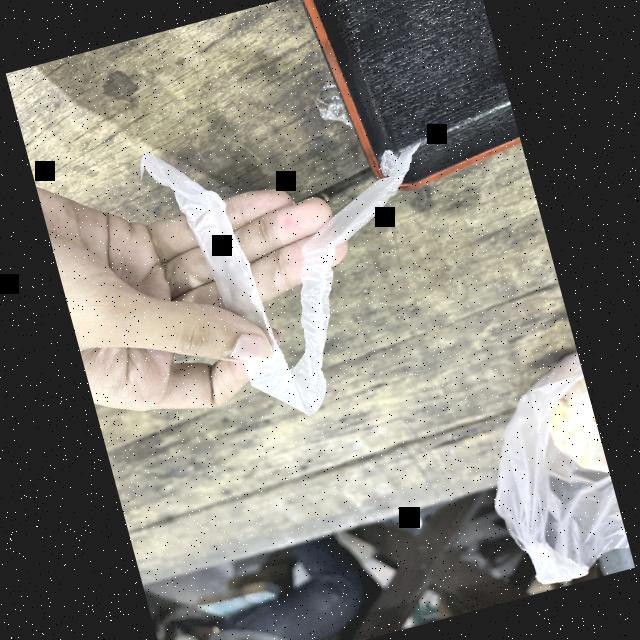plastic_bag: (458, 346, 634, 598)
scrap_plastic: (131, 80, 485, 448)
